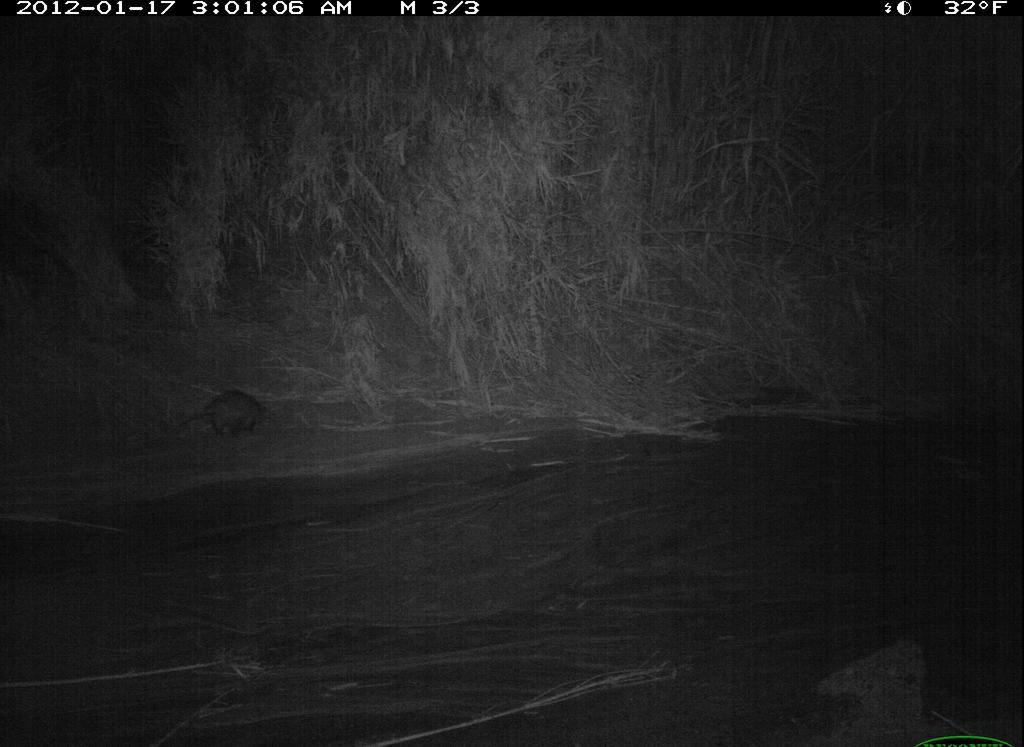opossum: (157, 381, 281, 460)
